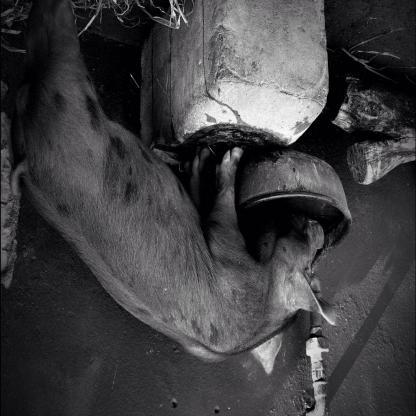boar: (10, 1, 338, 376)
